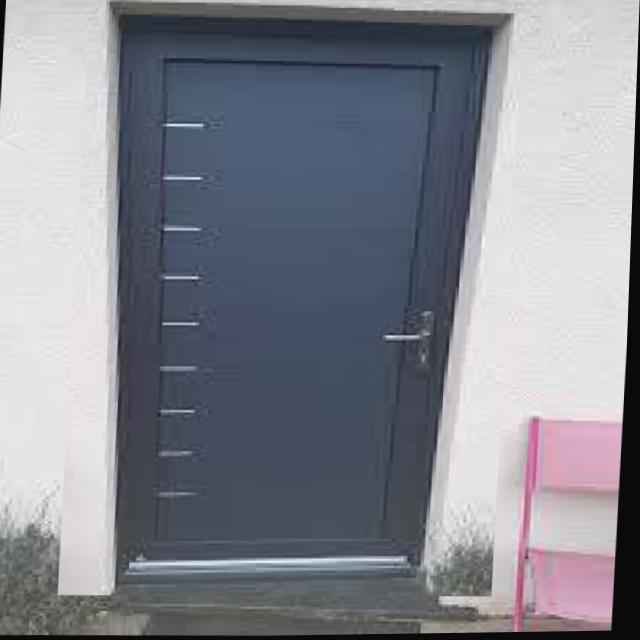close: (61, 0, 525, 604)
